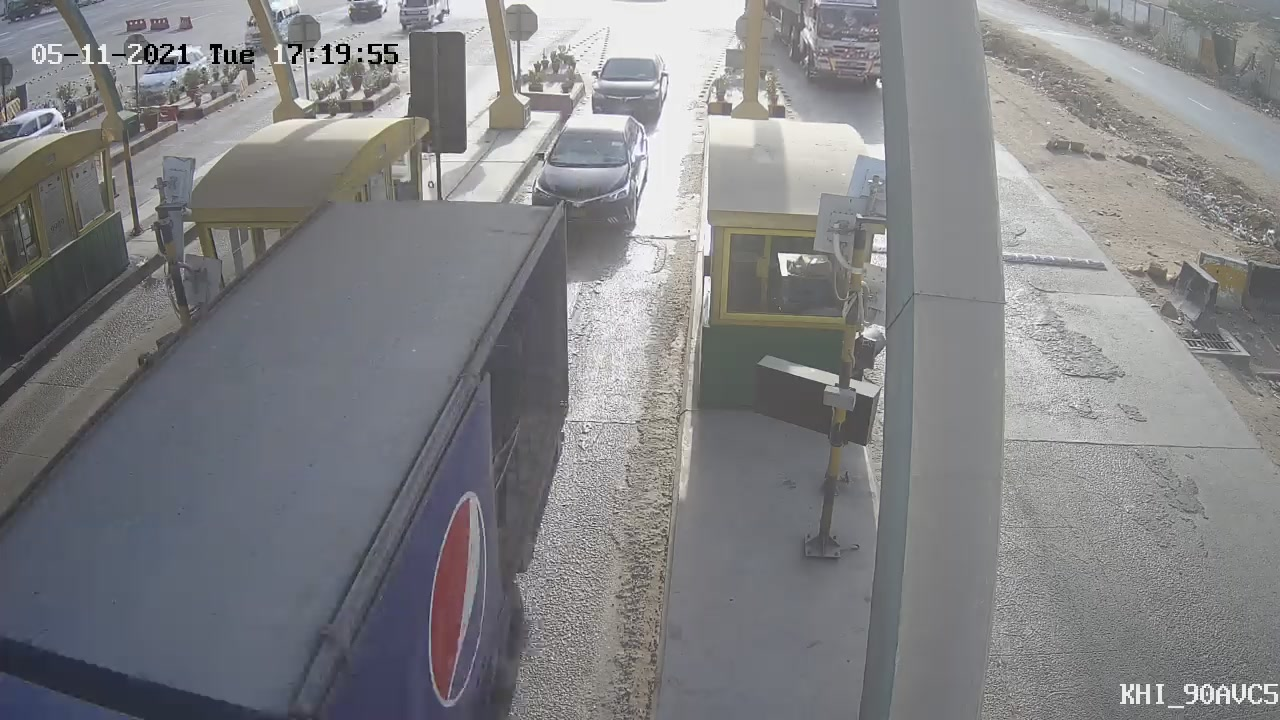F1: (516, 100, 659, 242), (577, 44, 679, 139)
